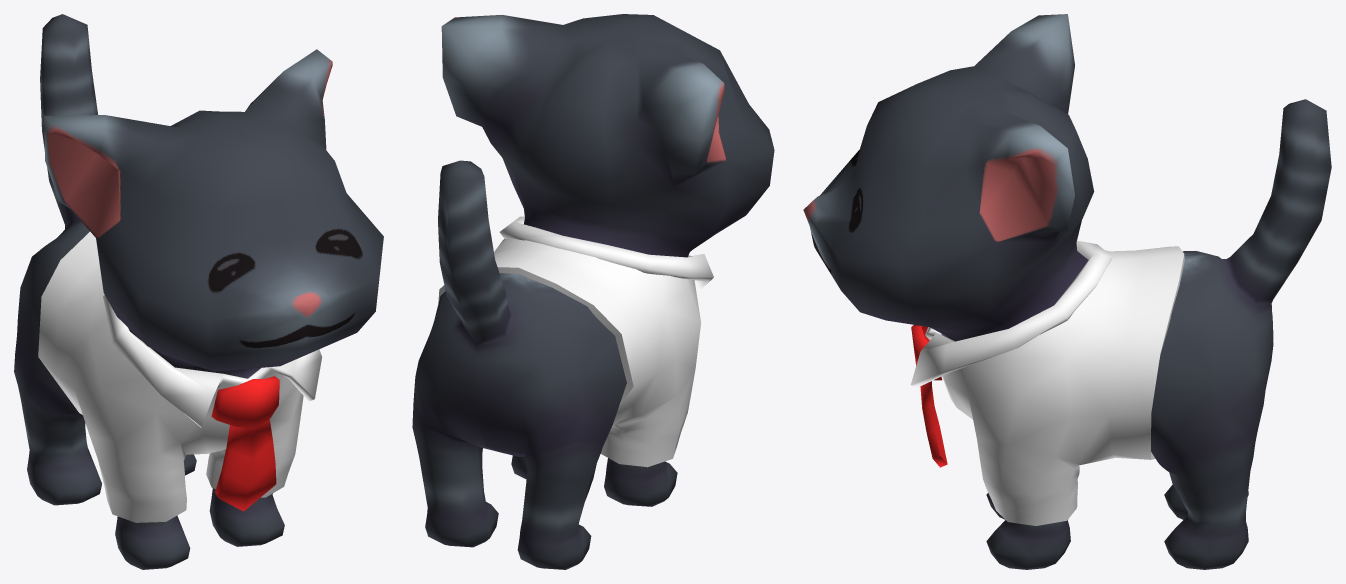
Rendered from Dean Cat04.fbx.
The picture shows the model from 3 angles, left to right: view 1: azimuth 30°, elevation 25°; view 2: azimuth 150°, elevation 25°; view 3: azimuth 270°, elevation 25°; orthographic projection. The views are drawn at different scales.
Parts seen in each view (by area): view 1: Cat_Base003, Dean_Cat_Shirt; view 2: Cat_Base003, Dean_Cat_Shirt; view 3: Cat_Base003, Dean_Cat_Shirt.
Part boxes in pixels (x1,y1,x2,y2): Cat_Base003: (14,14,383,569); Dean_Cat_Shirt: (38,231,321,522); Cat_Base003: (412,14,774,569); Dean_Cat_Shirt: (438,216,713,467); Cat_Base003: (803,14,1331,569); Dean_Cat_Shirt: (910,240,1184,525).
Bounding box in the file's own units: 1.75 × 2.83 × 2.68.
3 materials, 1 textured.
